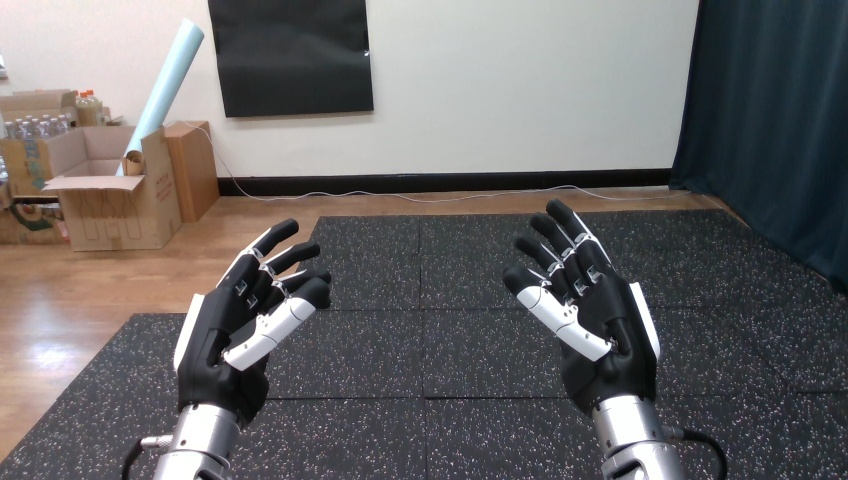left robot hand: (503, 199, 726, 479), (122, 219, 330, 479)
